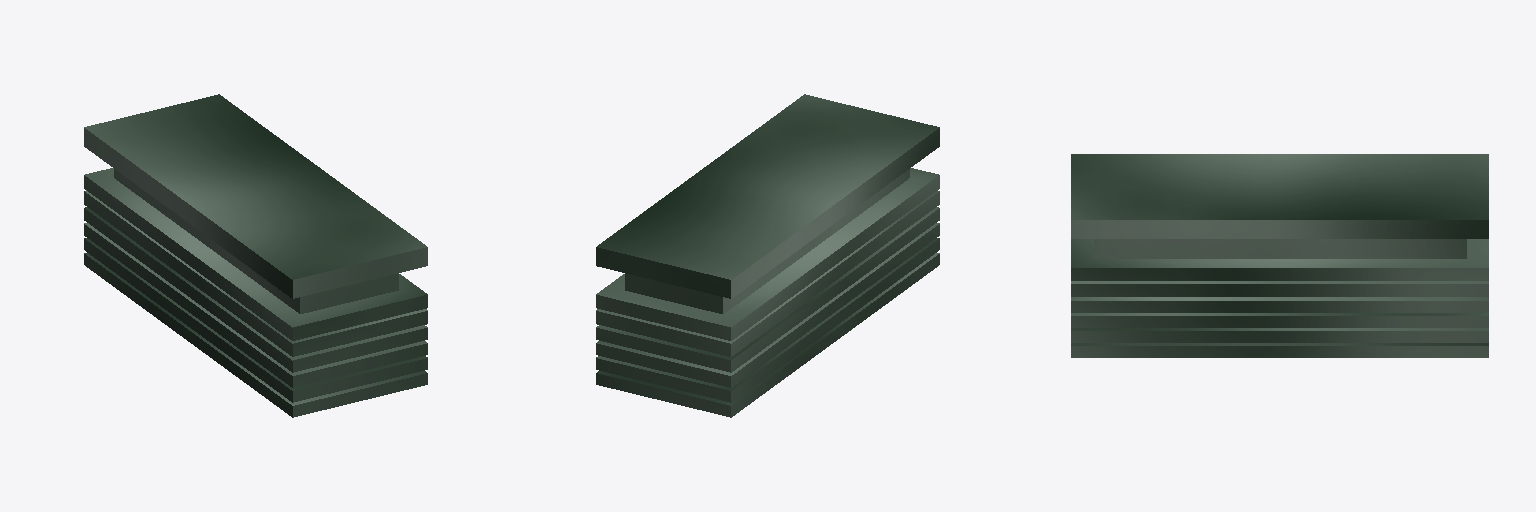
3 views of the same model, side by side, from view 1: azimuth 30°, elevation 25°; view 2: azimuth 150°, elevation 25°; view 3: azimuth 270°, elevation 25° (orthographic).
Visible parts, largest first — view 1: Manshon.001; view 2: Manshon.001; view 3: Manshon.001.
Boxes of the visible parts, box(x1,y1,x2,y2) form: Manshon.001: box(84, 94, 427, 417); Manshon.001: box(596, 94, 939, 417); Manshon.001: box(1071, 154, 1488, 357).
Bounding box in the file's own units: 6 × 5.82 × 16.
1 materials, 1 textured.